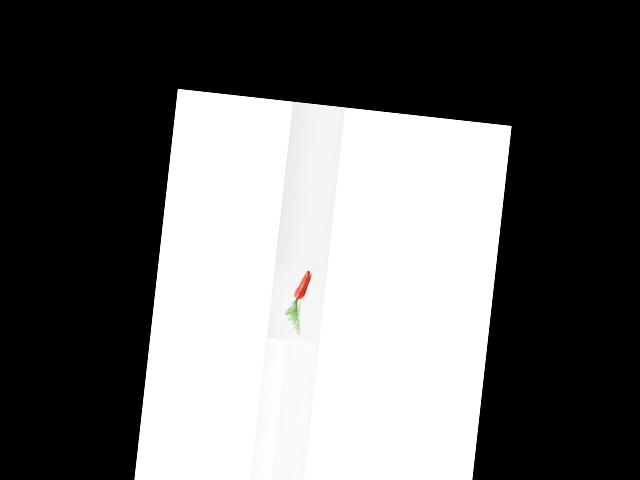carrot: (292, 267, 316, 302)
